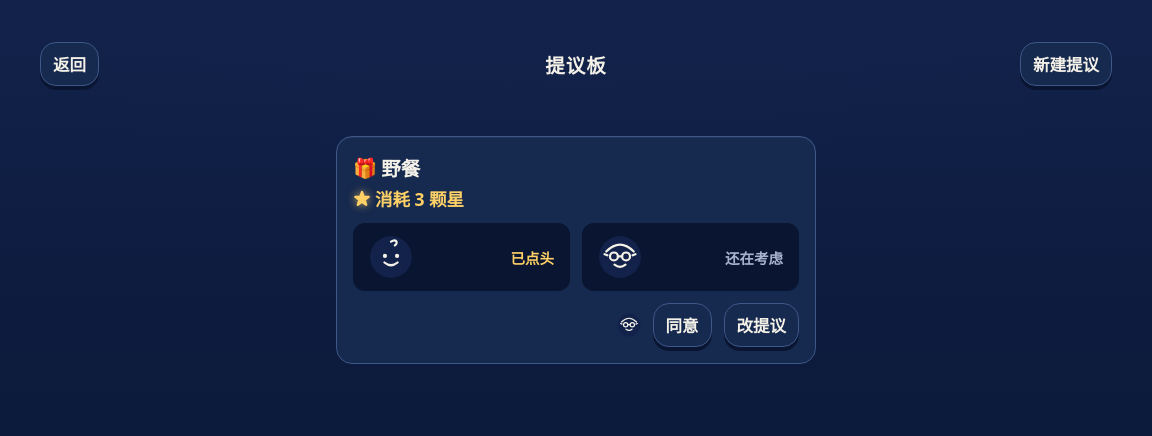
Scenario: AC-R32-5 表态（#63 单表态钮：文案随状态翻转，点击切换本视角开关） › 家长点「同意」（未点头态按钮文案）：parentStatus/status 落盘 agreed、右侧阵营变「已点头」、出现「已谈成」标识与发布按钮
This screenshot has width=1152, height=436.
Click the button with class "stance-btn".
click(682, 325)  # box [652,303,712,347]
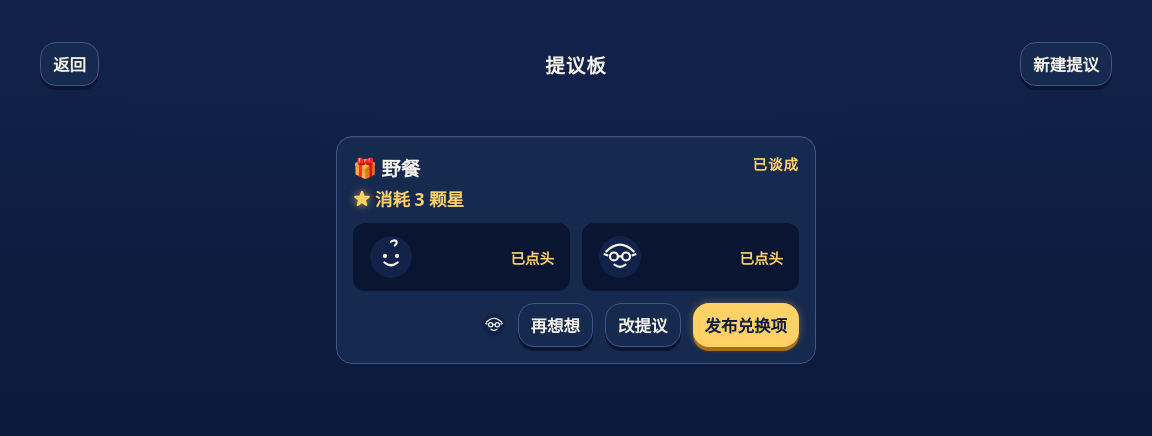
expect the element showing "🎁 野餐 消耗 3 颗星 已谈成 已点头 已点头 再想想 改提议 发布兑换项" is shown: met, box [336,136,816,364]
